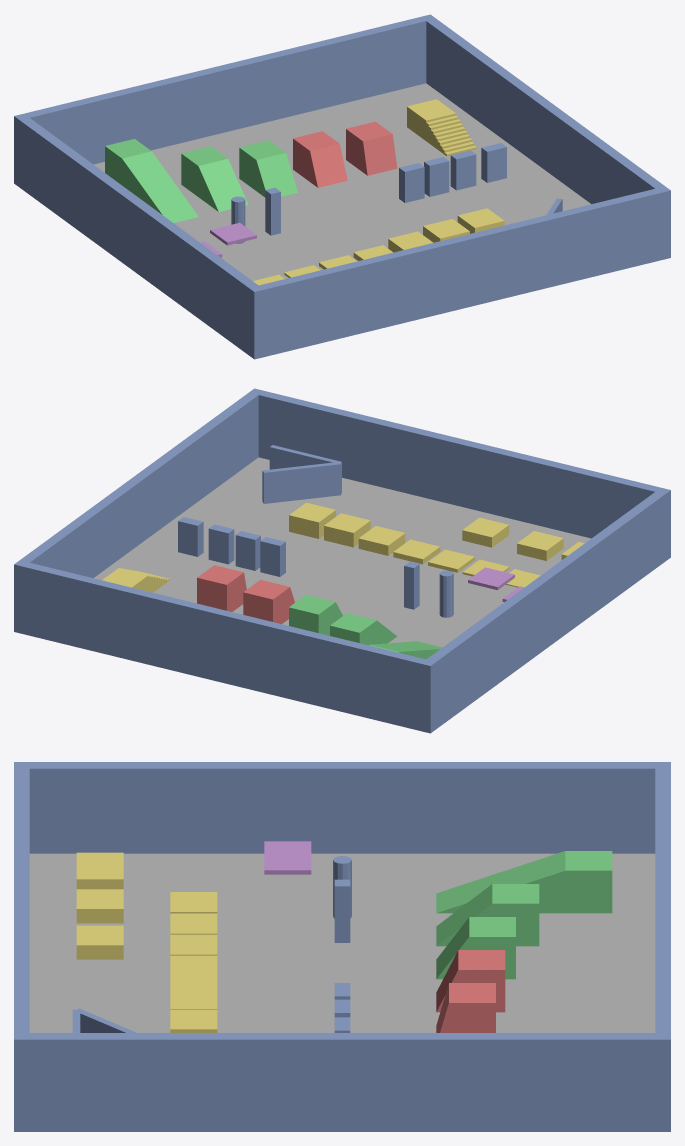
The model's file is TestStage.fbx.
3 renders of one model, top to bottom at view 1: azimuth 30°, elevation 25°; view 2: azimuth 150°, elevation 25°; view 3: azimuth 270°, elevation 25°, orthographic. The views are drawn at different scales.
Parts seen in each view (by area): view 1: Wall_S, Floor, Wall_N, Wall_W, Wall_E, Slope_20deg, Slope_40deg, Slope_55deg, Slope_65deg, Slope_75deg, SlopeTop_40deg, SlopeTop_55deg (+13 smaller); view 2: Wall_N, Floor, Wall_S, Wall_W, Wall_E, Corner_B, SlopeTop_75deg, SlopeTop_65deg, SlopeTop_55deg, Step_h160, SlopeTop_40deg, Step_h140 (+15 smaller); view 3: Floor, Wall_E, Wall_W, Wall_N, Wall_S, Slope_20deg, SlopeTop_20deg, SlopeTop_75deg, SlopeTop_40deg, SlopeTop_65deg, SlopeTop_55deg, Jump_A (+16 smaller).
Boxes of the visible parts, bbox=[...] form: Wall_S: bbox=[248, 186, 670, 359]; Floor: bbox=[94, 83, 590, 280]; Wall_N: bbox=[14, 14, 435, 187]; Wall_W: bbox=[19, 118, 258, 354]; Wall_E: bbox=[426, 18, 664, 204]; Slope_20deg: bbox=[122, 151, 198, 222]; Slope_40deg: bbox=[198, 159, 248, 211]; Slope_55deg: bbox=[256, 153, 297, 197]; Slope_65deg: bbox=[310, 144, 347, 187]; Slope_75deg: bbox=[363, 134, 397, 175]; SlopeTop_40deg: bbox=[181, 146, 227, 196]; SlopeTop_55deg: bbox=[239, 140, 285, 190]; Wall_N: bbox=[14, 560, 436, 733]; Floor: bbox=[94, 457, 590, 647]; Wall_S: bbox=[249, 388, 670, 561]; Wall_W: bbox=[426, 492, 665, 728]; Wall_E: bbox=[20, 392, 258, 578]; Corner_B: bbox=[262, 462, 341, 503]; SlopeTop_75deg: bbox=[197, 565, 243, 611]; SlopeTop_65deg: bbox=[243, 579, 290, 623]; SlopeTop_55deg: bbox=[289, 595, 335, 635]; Step_h160: bbox=[289, 502, 335, 538]; SlopeTop_40deg: bbox=[330, 613, 376, 645]; Step_h140: bbox=[324, 513, 370, 547]; Floor: bbox=[29, 853, 655, 1032]; Wall_E: bbox=[29, 1033, 655, 1131]; Wall_W: bbox=[29, 762, 655, 853]; Wall_N: bbox=[655, 762, 670, 1131]; Wall_S: bbox=[14, 762, 29, 1131]; Slope_20deg: bbox=[436, 851, 565, 913]; SlopeTop_20deg: bbox=[565, 851, 612, 913]; SlopeTop_75deg: bbox=[449, 983, 495, 1032]; SlopeTop_40deg: bbox=[492, 884, 539, 946]; SlopeTop_65deg: bbox=[458, 950, 505, 1012]; SlopeTop_55deg: bbox=[469, 917, 515, 979]; Jump_A: bbox=[76, 852, 123, 889].
Bounding box in the file's own units: 4200 × 650 × 4200.
